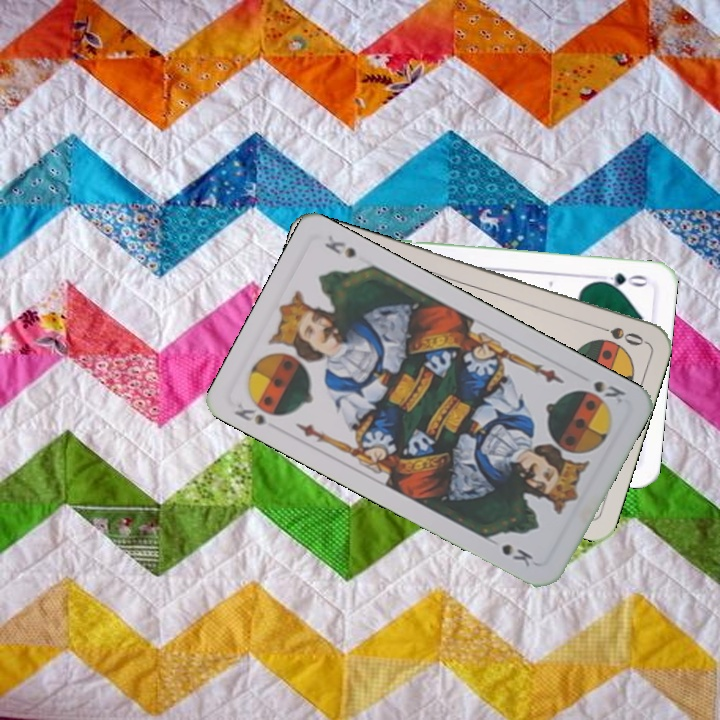GO: (592, 268, 651, 292)
SK: (230, 395, 285, 428), (575, 377, 628, 407)
SO: (590, 320, 647, 349)
